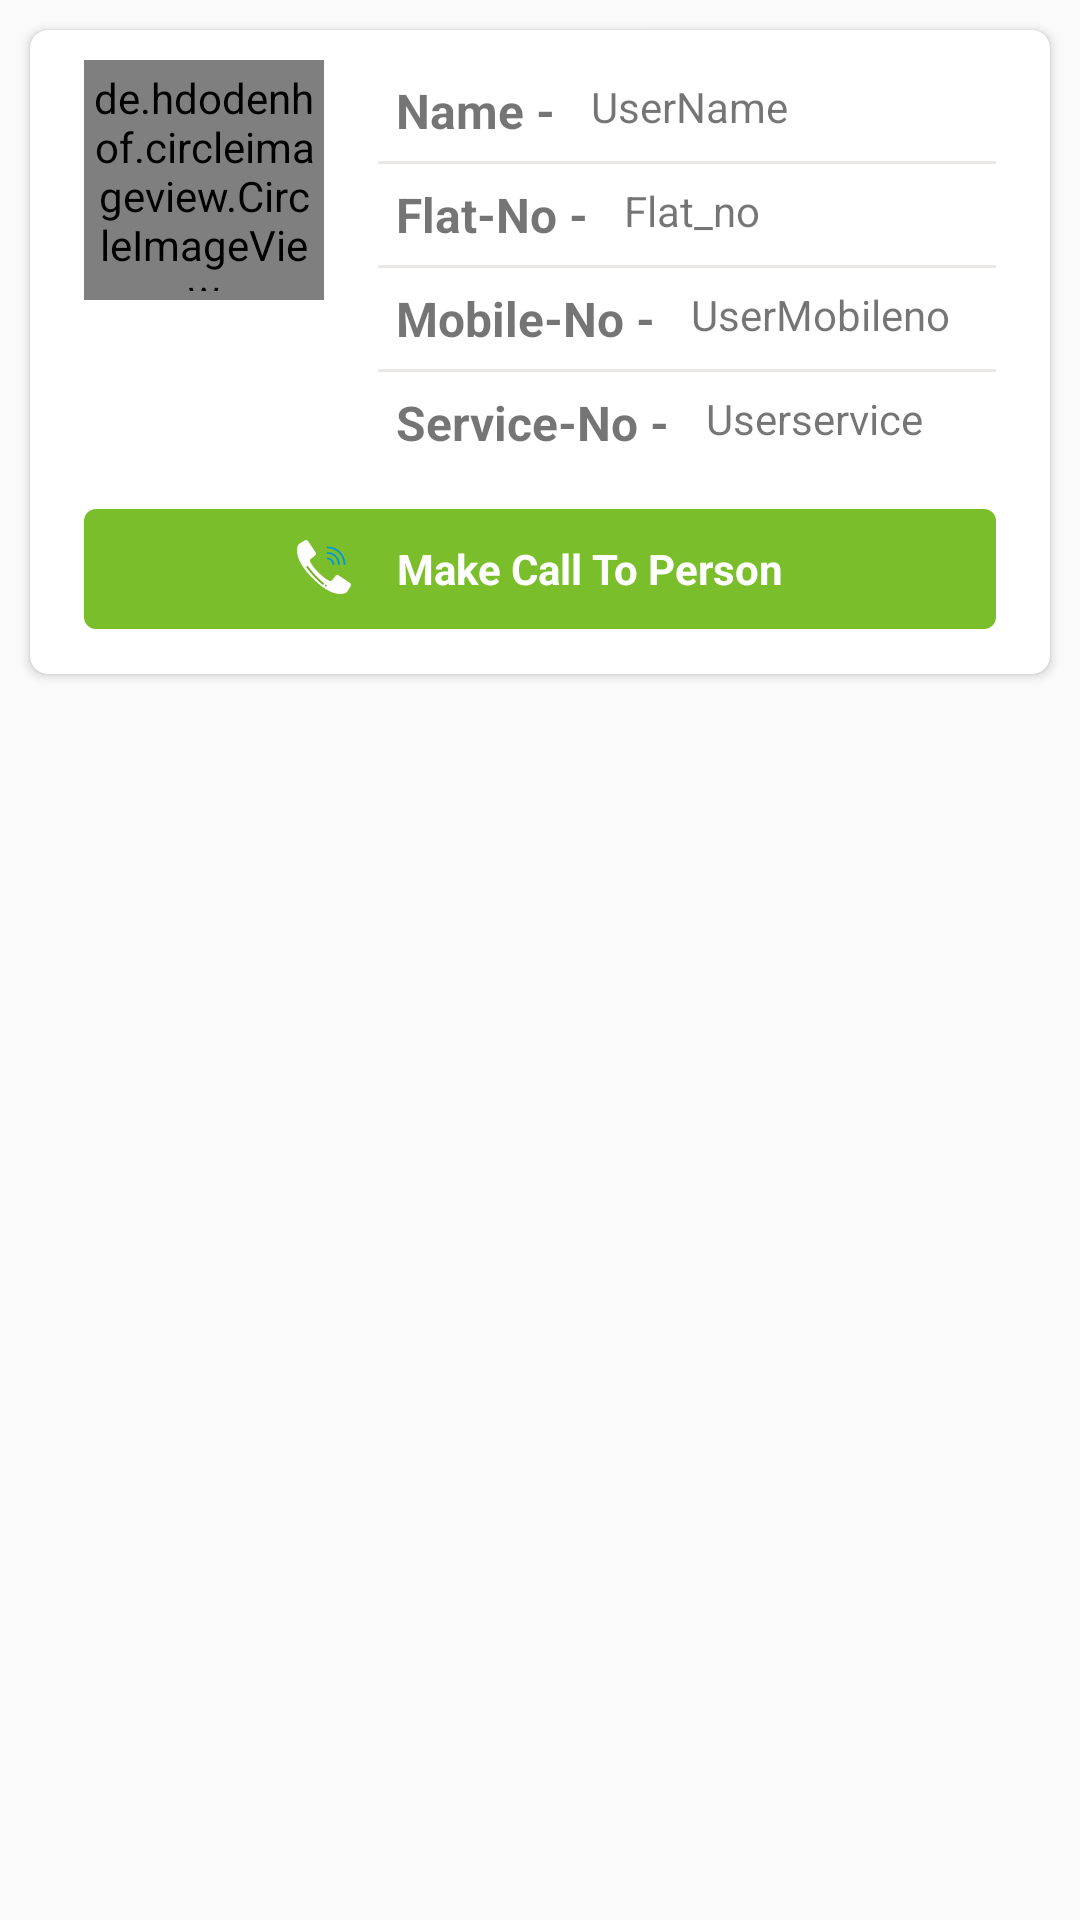

Screen size 1080 x 1920. Icon name, then its box in pixels as (x1, y1, x2, y2):
callbutton: (297, 540, 351, 594)
